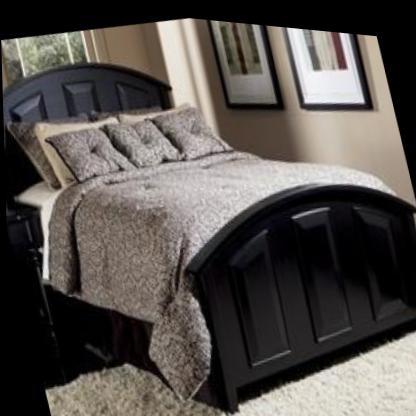Bed: (2, 60, 416, 409)
Carpet: (136, 318, 416, 416)
